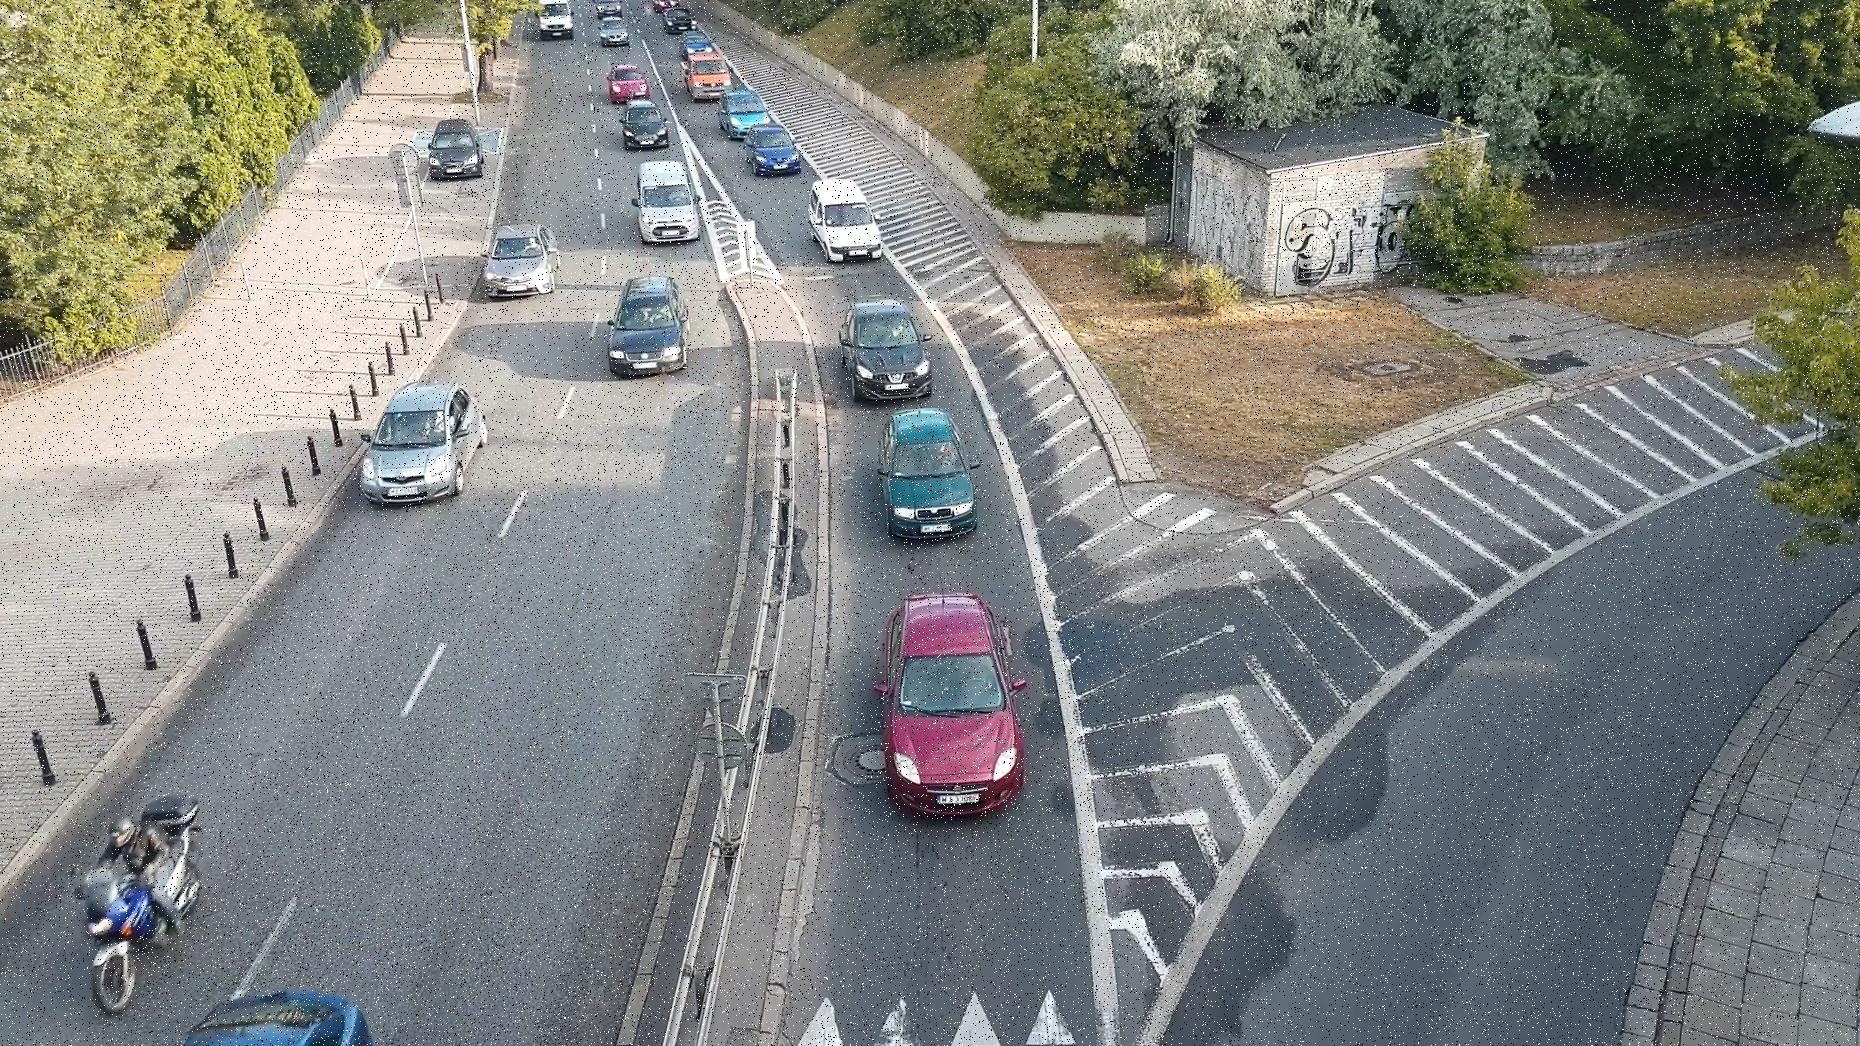bike: (64, 778, 215, 1024)
car: (871, 575, 1037, 810), (358, 370, 489, 512), (869, 404, 989, 550), (830, 291, 945, 410), (600, 275, 699, 384), (478, 206, 565, 307), (801, 167, 889, 266), (630, 155, 703, 253), (415, 111, 493, 184), (736, 117, 815, 184), (713, 84, 773, 142), (616, 93, 673, 151), (678, 47, 733, 97), (526, 0, 581, 50), (599, 60, 653, 91), (671, 23, 712, 57), (595, 10, 630, 51), (644, 0, 687, 15)
